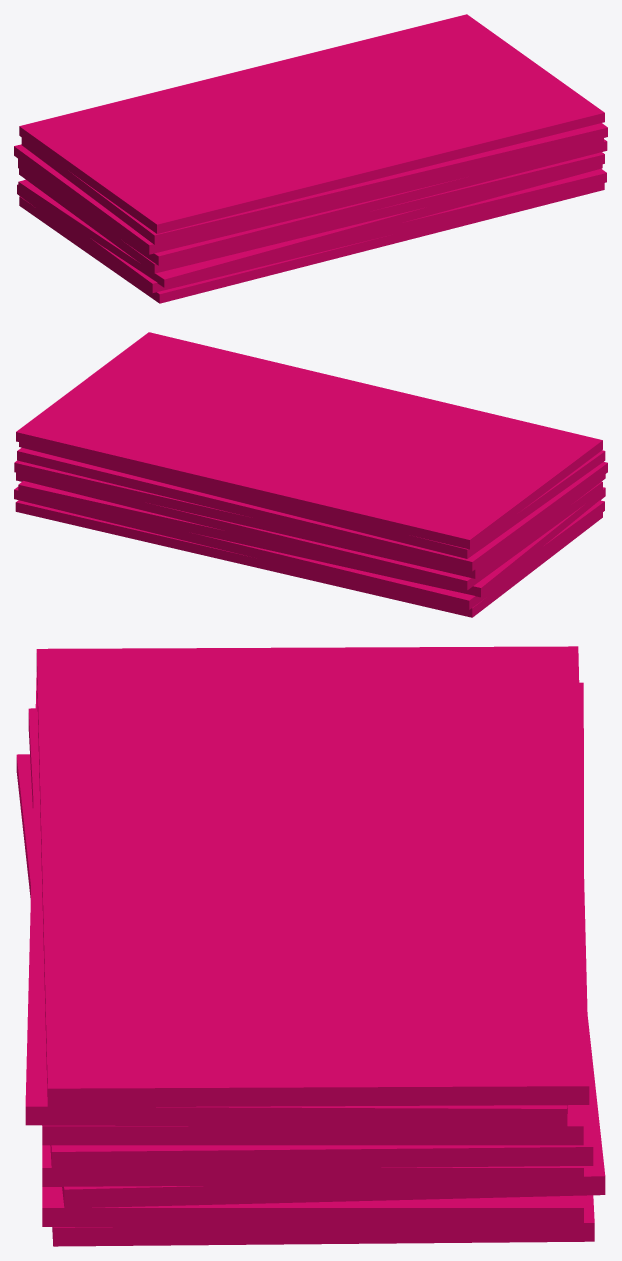
Rendered from Wood_W_Pile_04_Lod0.fbx.
3 views of the same model, one above another, from view 1: azimuth 30°, elevation 25°; view 2: azimuth 150°, elevation 25°; view 3: azimuth 270°, elevation 25° (orthographic). The views are drawn at different scales.
Visible parts, largest first — view 1: Wood_W_Pile_04_Lod0; view 2: Wood_W_Pile_04_Lod0; view 3: Wood_W_Pile_04_Lod0.
Boxes of the visible parts, bbox=[...] form: Wood_W_Pile_04_Lod0: bbox=[14, 14, 607, 303]; Wood_W_Pile_04_Lod0: bbox=[14, 332, 607, 617]; Wood_W_Pile_04_Lod0: bbox=[16, 646, 605, 1246].
Bounding box in the file's own units: 287 × 46.56 × 159.
